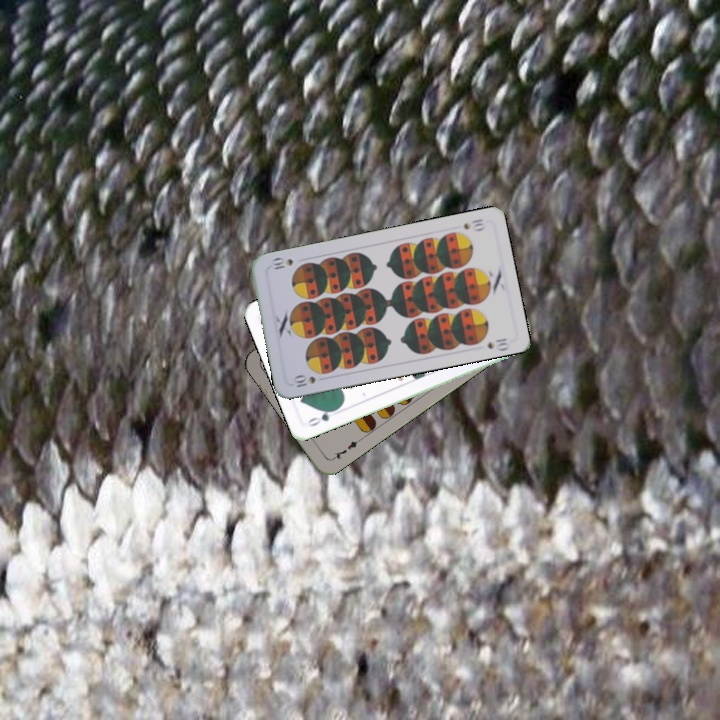E7: (328, 435, 364, 463)
GO: (303, 404, 341, 429)
S10: (289, 371, 318, 390), (459, 214, 488, 233)
